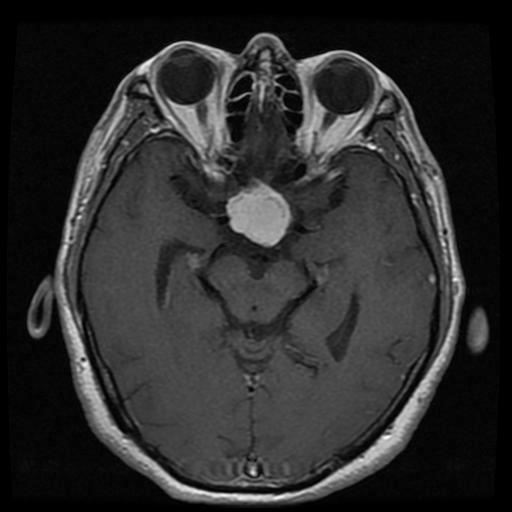Tumour-Meningioma: (195, 178, 318, 274)
